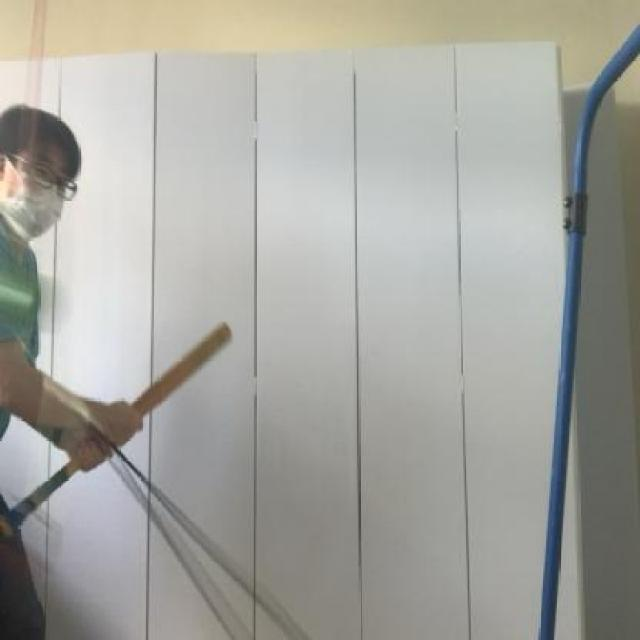baseball: (0, 255, 82, 339)
